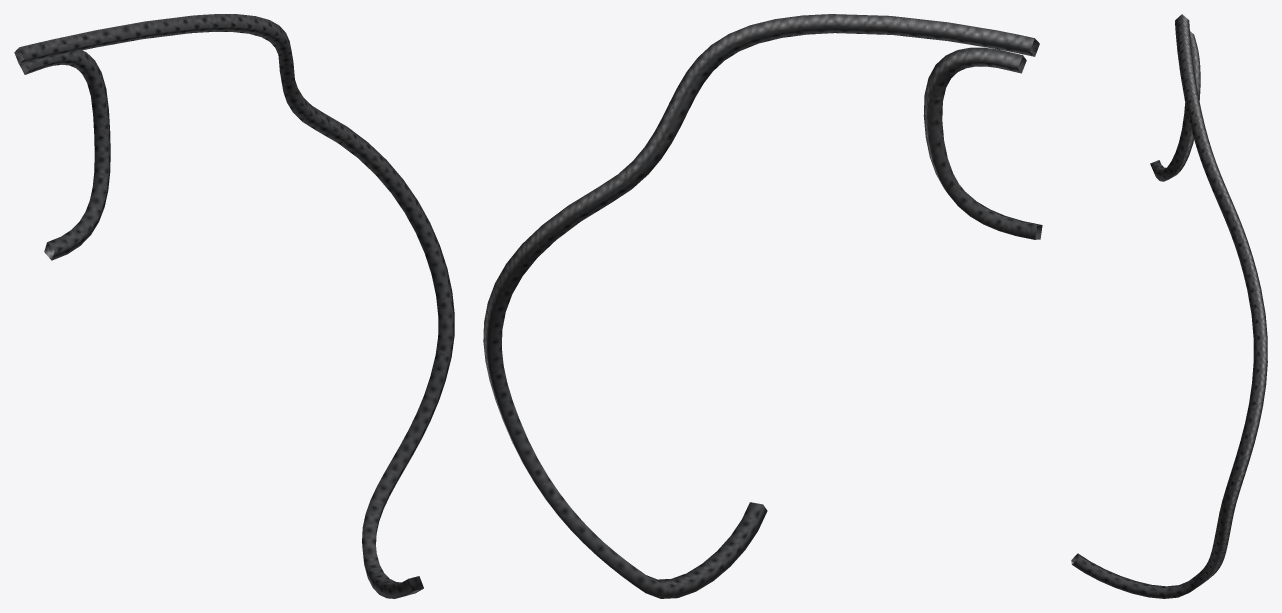
File: Wires.glb
The picture shows the model from 3 angles, left to right: view 1: azimuth 30°, elevation 25°; view 2: azimuth 150°, elevation 25°; view 3: azimuth 270°, elevation 25°; orthographic projection. The views are drawn at different scales.
Parts seen in each view (by area): view 1: Wires_low_compose; view 2: Wires_low_compose; view 3: Wires_low_compose.
Boxes of the visible parts, x1,y1,x2,y2 form: Wires_low_compose: (14,14,454,598); Wires_low_compose: (483,14,1042,598); Wires_low_compose: (1071,14,1267,598).
Bounding box in the file's own units: 0.2049 × 0.2528 × 0.0984.
1 material, 1 textured.
